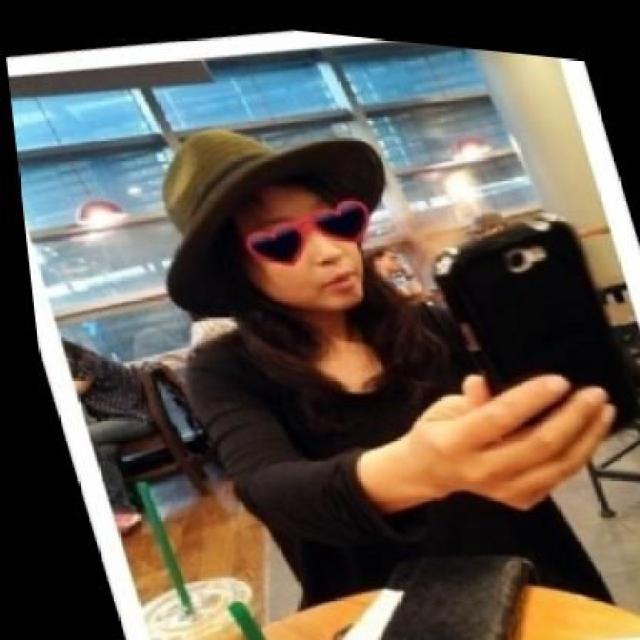hat: (154, 124, 384, 312)
